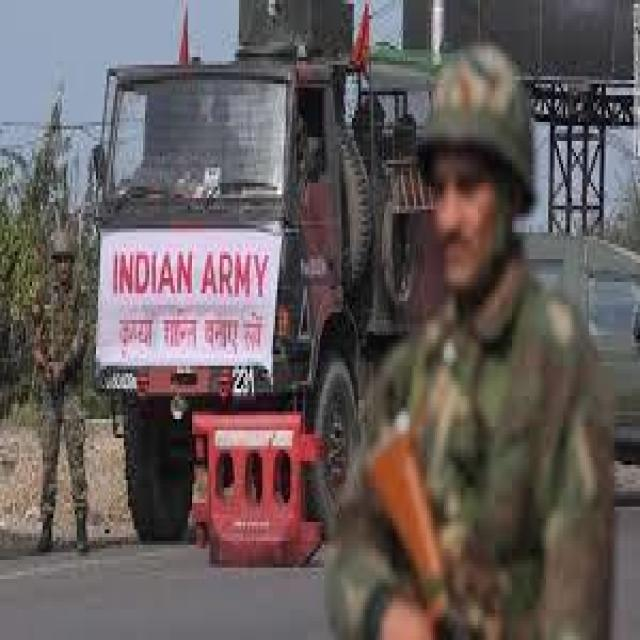Tanks: (72, 23, 530, 594)
